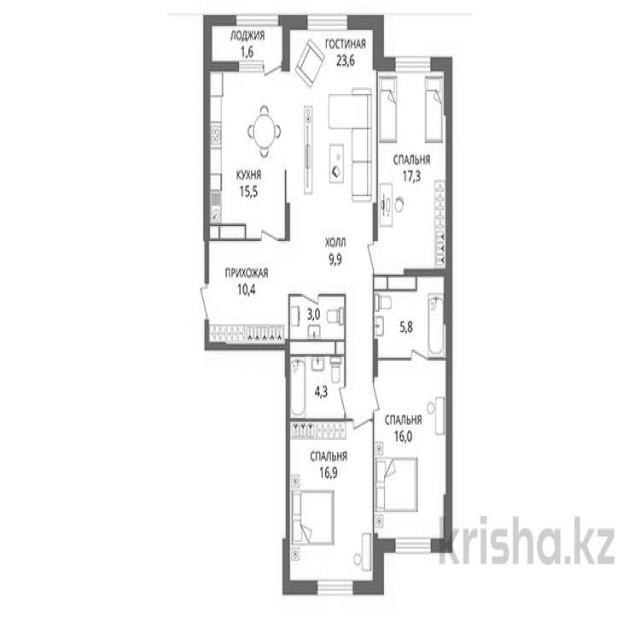balcony: (206, 19, 286, 62)
bathroom: (375, 287, 449, 358), (288, 356, 346, 420), (290, 296, 348, 346)
hallway: (208, 240, 288, 344), (287, 239, 375, 293)
living_room: (376, 63, 448, 274), (288, 424, 375, 586), (374, 362, 449, 548)
studio: (205, 68, 378, 238)
